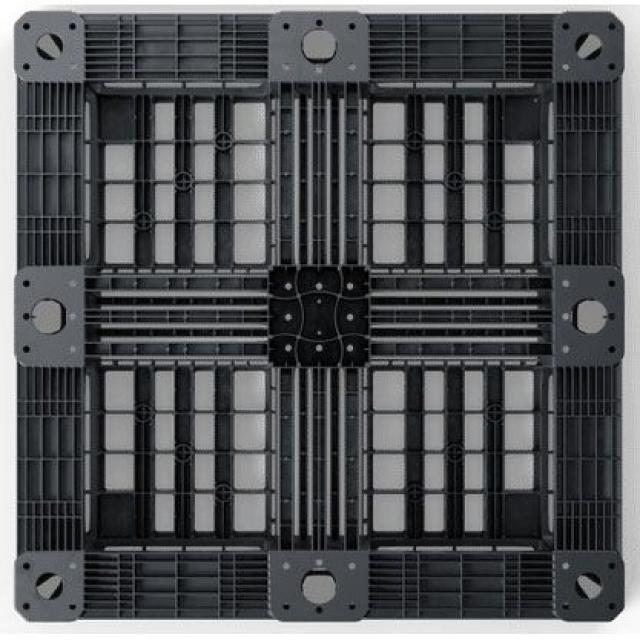non-igps: (5, 6, 632, 634)
